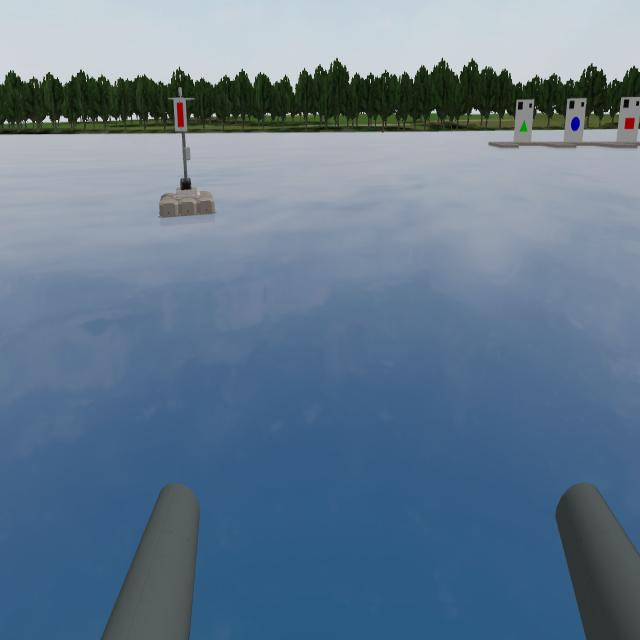red_pole: (168, 81, 200, 143)
